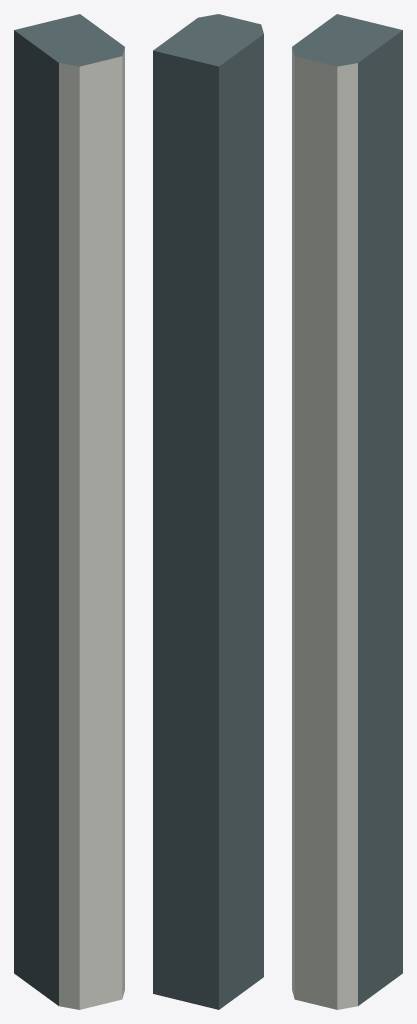
The model's file is tabletop-west.glb.
The picture shows the model from 3 angles, left to right: view 1: azimuth 30°, elevation 25°; view 2: azimuth 150°, elevation 25°; view 3: azimuth 330°, elevation 25°; orthographic projection.
Parts seen in each view (by area): view 1: Rail_west; view 2: Rail_west; view 3: Rail_west.
Boxes of the visible parts, box(x1,y1,x2,y2) form: Rail_west: box(14, 14, 124, 1009); Rail_west: box(153, 14, 263, 1009); Rail_west: box(292, 14, 402, 1009).
Bounding box in the file's own units: 0.34 × 4.64 × 0.48.
